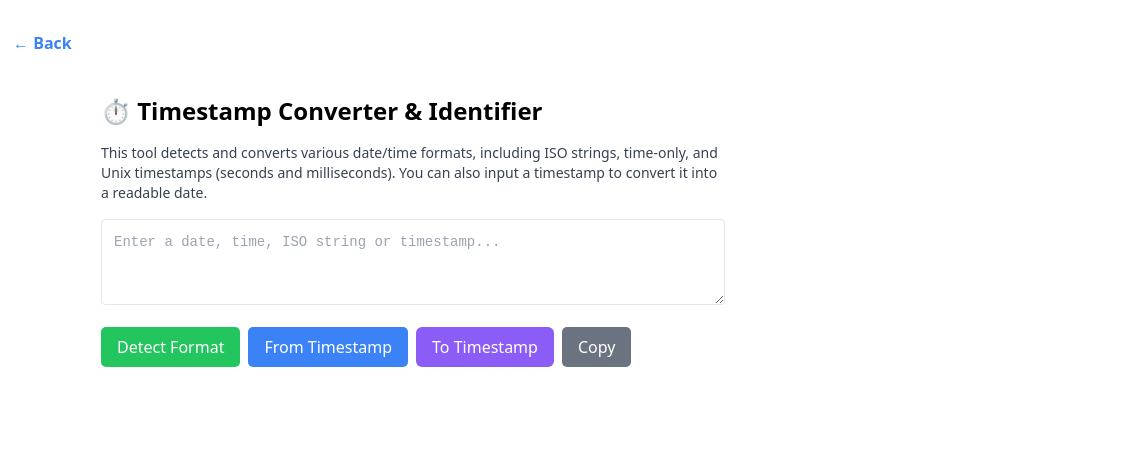
Test: TimestampToolView › detects Unix timestamp in milliseconds
This screenshot has width=1133, height=456.
Type "1700000000123" into the text box with placeholder "Enter a date, time, ISO string or timestamp...".
click(413, 262); type("1700000000123")  # box [101,219,725,305]
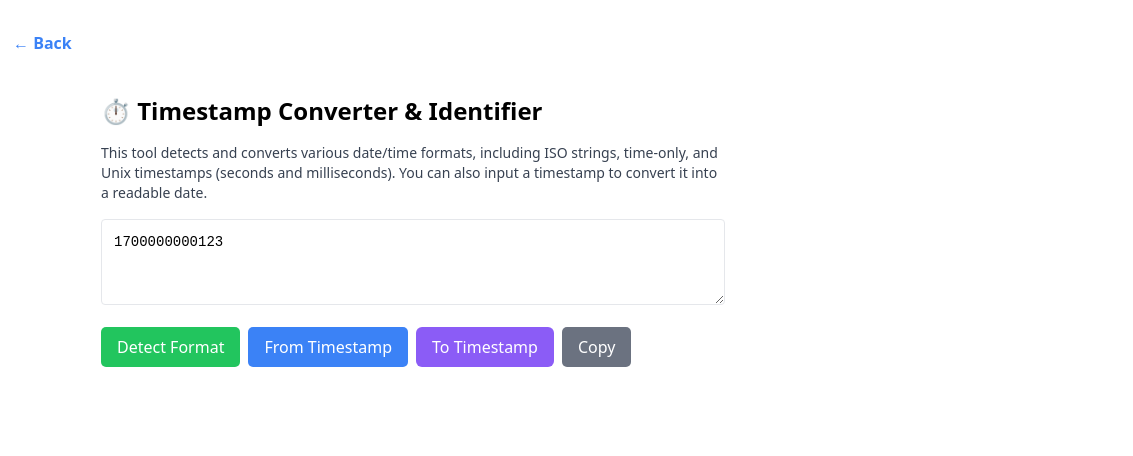
Click the button with class "btn-green".
click(171, 347)  # box [101,327,240,367]
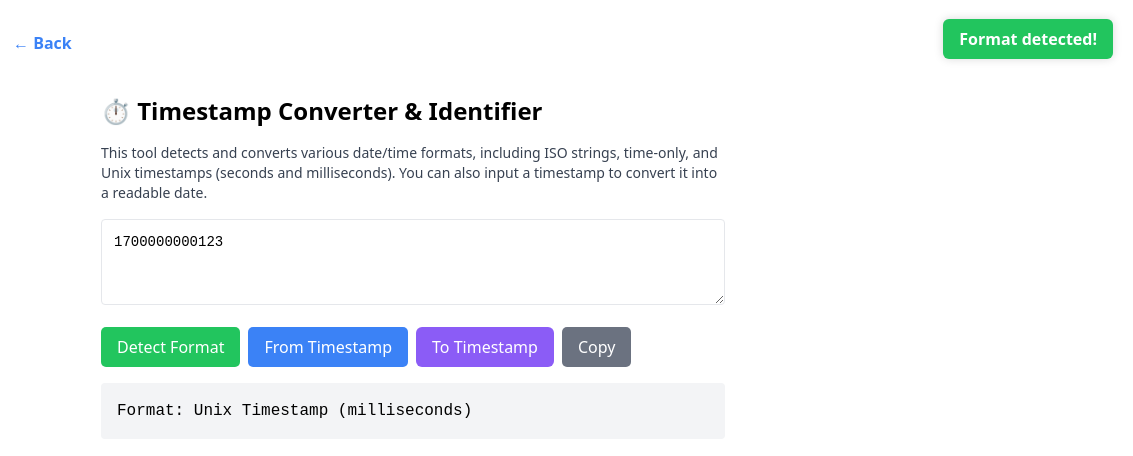
Check: the text "Unix Timestamp (milliseconds)" is shown, box [117,402,472,420]
